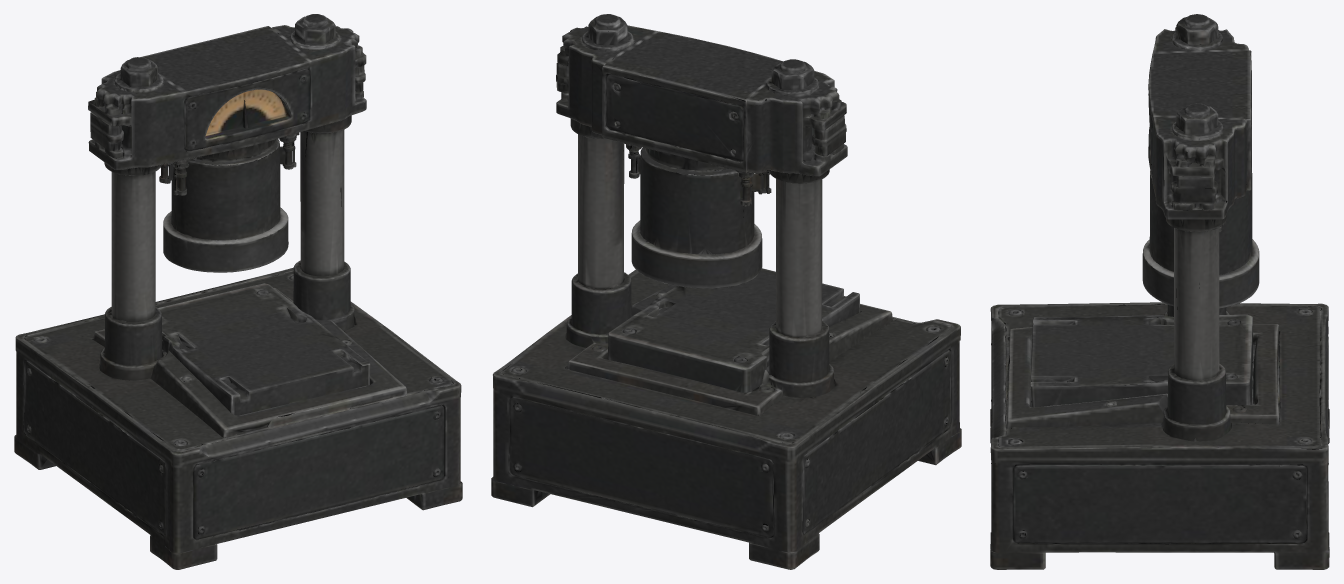
The model's file is press-chamber.glb.
3 views of the same model, side by side, from view 1: azimuth 30°, elevation 25°; view 2: azimuth 150°, elevation 25°; view 3: azimuth 270°, elevation 25° (orthographic). The views are drawn at different scales.
Visible parts, largest first — view 1: press-frame, press-ram; view 2: press-frame, press-ram; view 3: press-frame, press-ram.
Boxes of the visible parts, bbox=[...] form: press-frame: bbox=[14, 14, 462, 569]; press-ram: bbox=[159, 138, 296, 272]; press-frame: bbox=[491, 14, 961, 569]; press-ram: bbox=[626, 146, 769, 288]; press-frame: bbox=[990, 14, 1329, 569]; press-ram: bbox=[1142, 173, 1259, 308].
Size of the model in its own units: 0.792 by 1.1 by 0.7733.
1 material, 1 textured.
